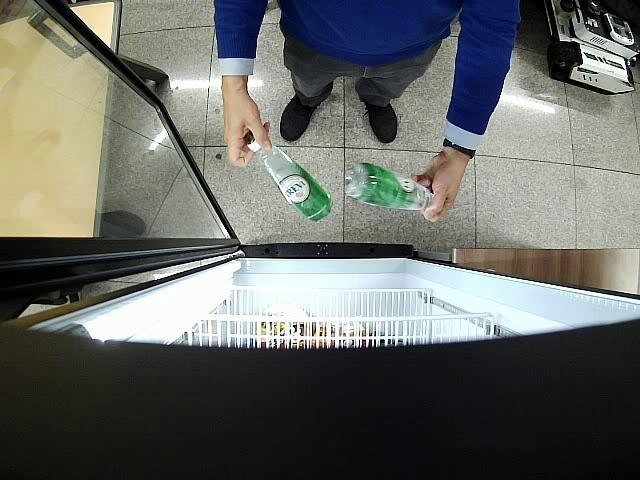18_trevi: (248, 137, 332, 222), (346, 162, 434, 210)
